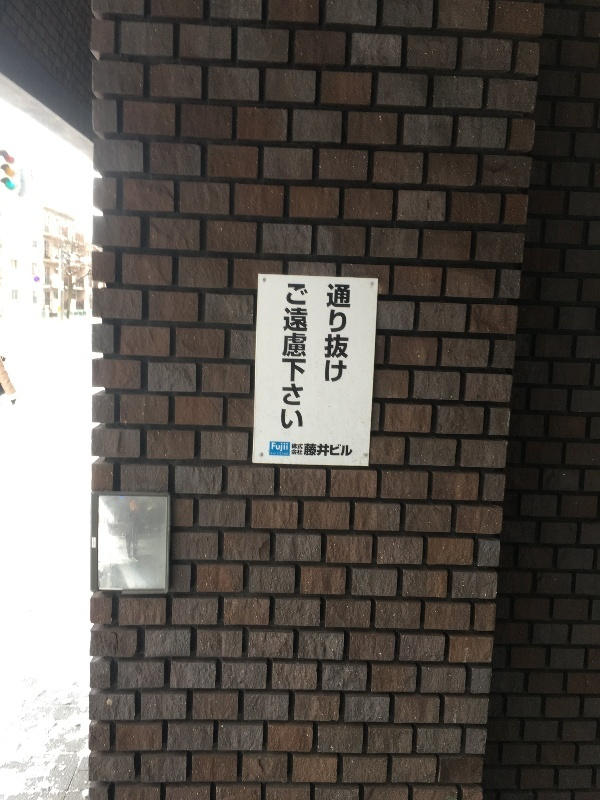text: (289, 284, 304, 430), (337, 284, 352, 382), (327, 284, 336, 382), (305, 284, 310, 430), (286, 284, 288, 430), (337, 443, 353, 457), (305, 443, 320, 457), (321, 443, 336, 457), (273, 443, 288, 452), (292, 444, 304, 450), (292, 450, 304, 456), (273, 452, 289, 456), (271, 452, 272, 456)
